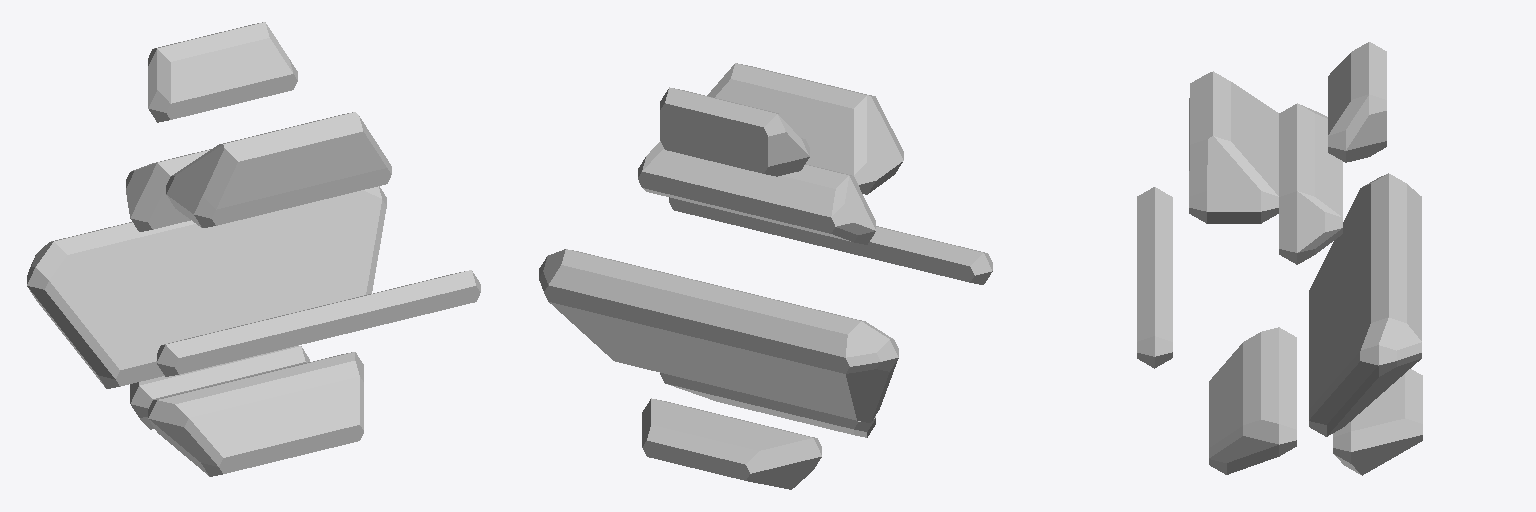
Rendered from Offset3.obj.
The picture shows the model from 3 angles: view 1: azimuth 30°, elevation 25°; view 2: azimuth 150°, elevation 25°; view 3: azimuth 270°, elevation 25°; orthographic projection.
Bounding box in the file's own units: 100 × 99.84 × 68.97.